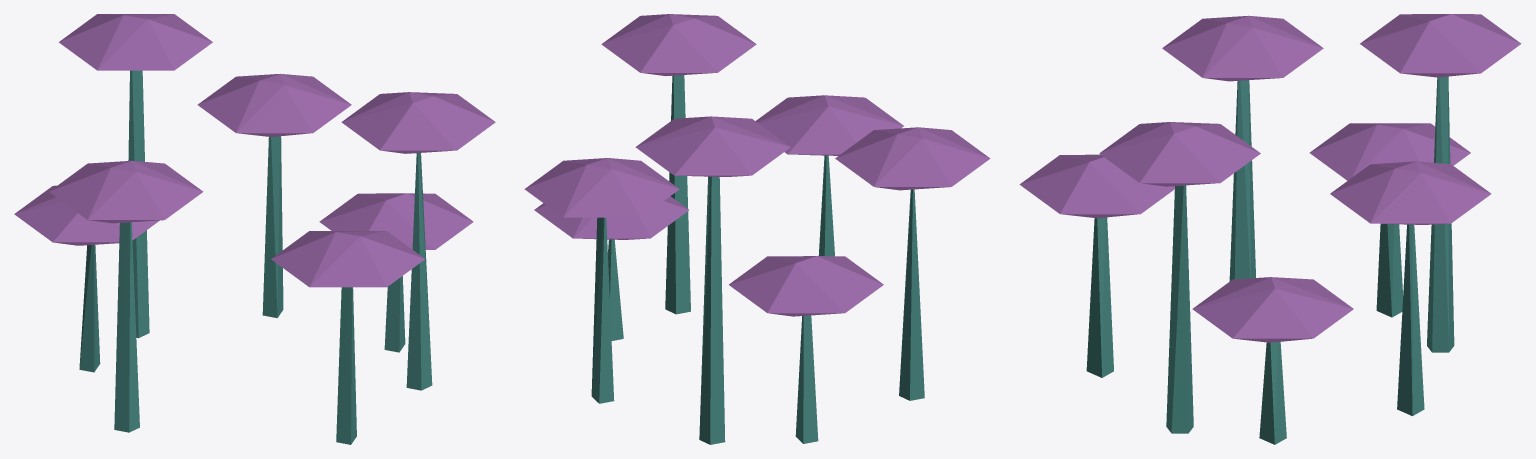
Rendered from Nature_Fungal_Cluster.glb.
The picture shows the model from 3 angles, left to right: view 1: azimuth 30°, elevation 25°; view 2: azimuth 150°, elevation 25°; view 3: azimuth 270°, elevation 25°; orthographic projection. The views are drawn at different scales.
Visible parts, largest first — view 1: Nature_Fungal_Cluster; view 2: Nature_Fungal_Cluster; view 3: Nature_Fungal_Cluster.
Boxes of the visible parts, bbox=[...] form: Nature_Fungal_Cluster: bbox=[14, 14, 495, 444]; Nature_Fungal_Cluster: bbox=[524, 14, 990, 444]; Nature_Fungal_Cluster: bbox=[1019, 14, 1521, 444].
Size of the model in its own units: 0.8379 by 0.63 by 0.8685.
